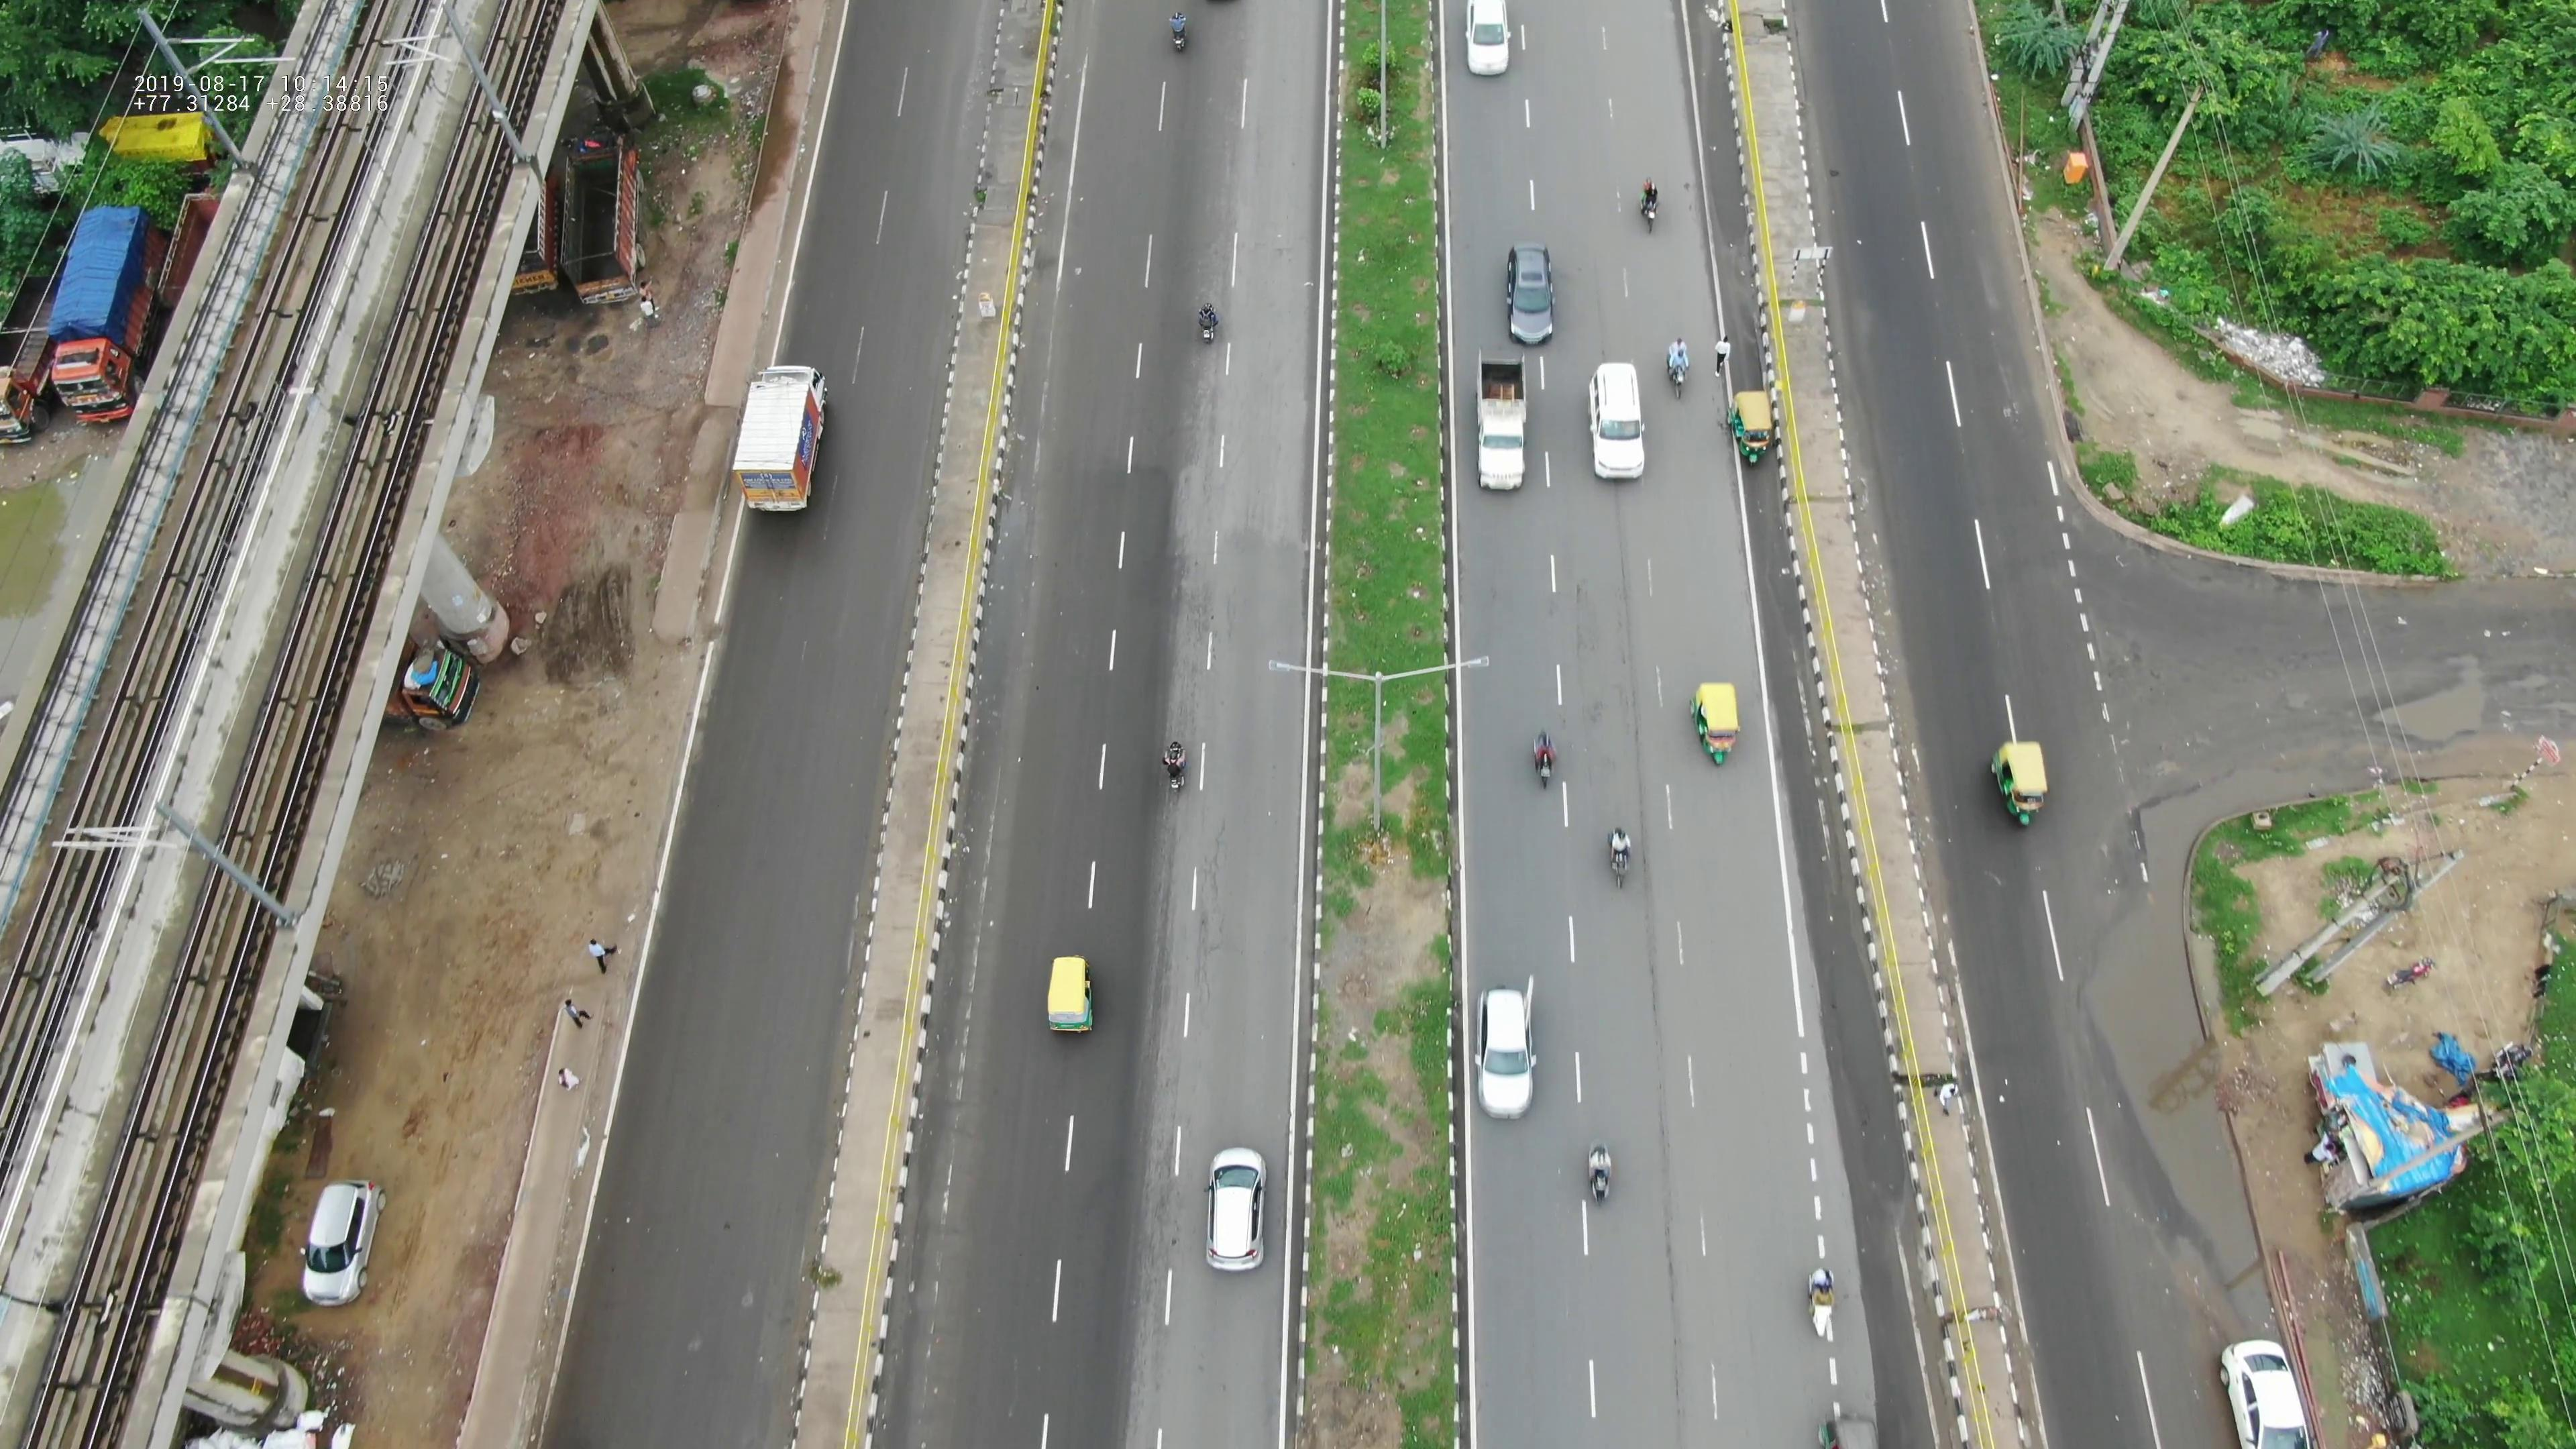Ravelling: (1603, 579, 1677, 764), (1651, 1212, 1704, 1433), (1619, 777, 1668, 984), (1628, 1017, 1679, 1168)
Waterlogging: (2079, 876, 2250, 1277)
